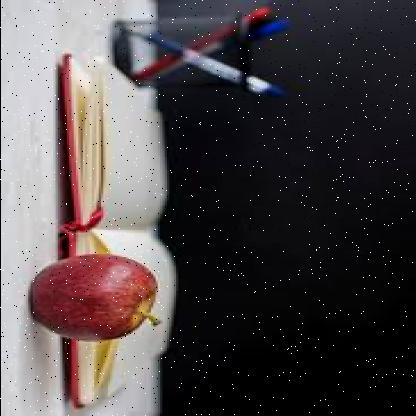apple: (20, 246, 156, 344)
